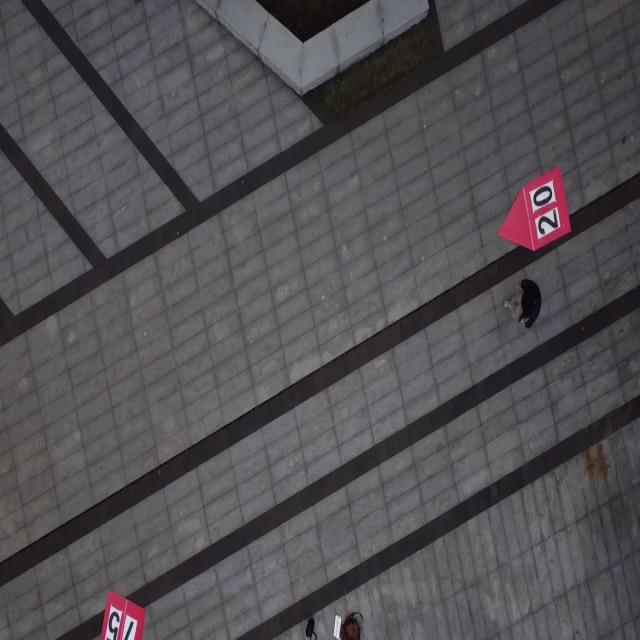-sign-: (496, 165, 572, 252)
